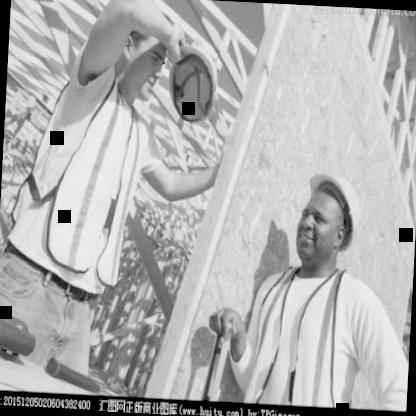head: (110, 2, 174, 104)
helmet: (286, 156, 369, 278)
